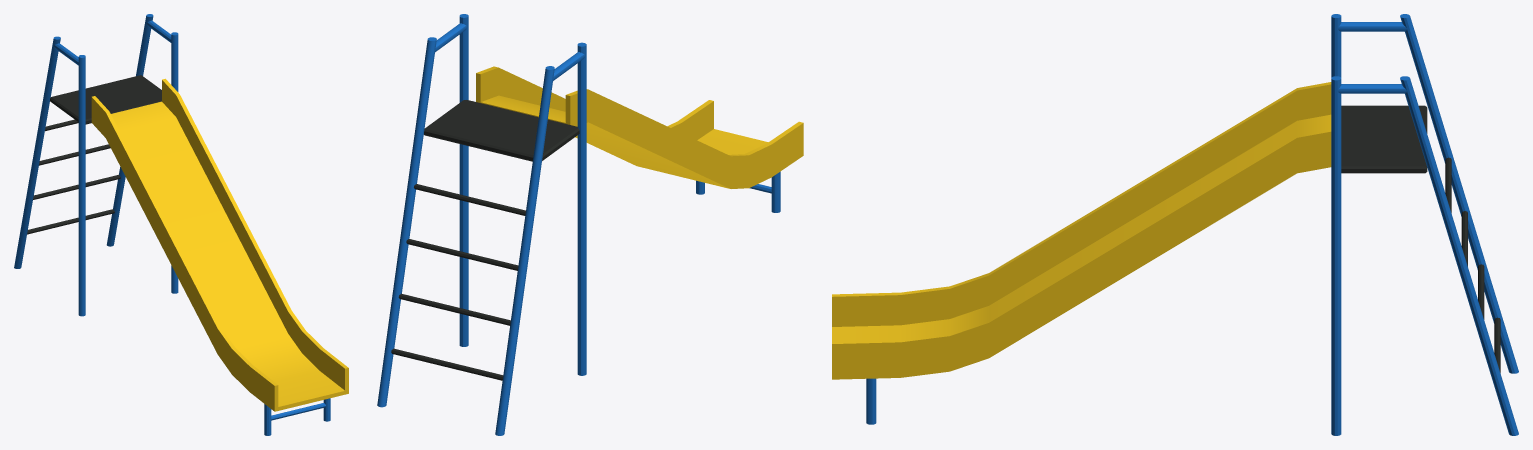
The model's file is tobogan.glb.
The picture shows the model from 3 angles, left to right: view 1: azimuth 30°, elevation 25°; view 2: azimuth 150°, elevation 25°; view 3: azimuth 270°, elevation 25°; orthographic projection. The views are drawn at different scales.
Parts seen in each view (by area): view 1: tobogan_cuerpo; view 2: tobogan_cuerpo; view 3: tobogan_cuerpo.
Part boxes in pixels (x1,y1,x2,y2): tobogan_cuerpo: (14,14,348,435); tobogan_cuerpo: (377,14,803,435); tobogan_cuerpo: (832,14,1518,435).
Size of what is drawn, in the model's own units: 0.8 by 2 by 3.5.
